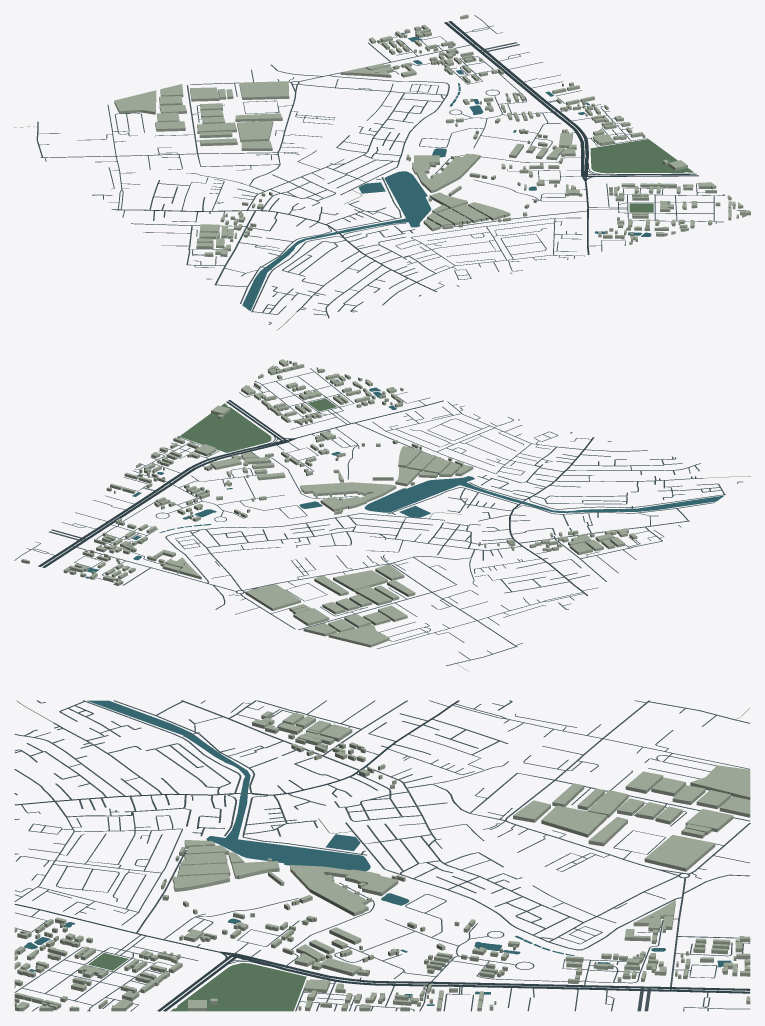
The picture shows the model from 3 angles, top to bottom: view 1: azimuth 30°, elevation 25°; view 2: azimuth 150°, elevation 25°; view 3: azimuth 270°, elevation 25°; orthographic projection. The views are drawn at different scales.
Parts seen in each view (by area): view 1: building, street, water, green, major; view 2: building, street, water, green, major; view 3: building, street, water, green, major.
Part boxes in pixels (bbox=[...]): building: bbox=[114, 14, 750, 256]; street: bbox=[36, 15, 745, 324]; water: bbox=[242, 32, 687, 310]; green: bbox=[590, 139, 693, 212]; major: bbox=[111, 21, 698, 291]; building: bbox=[21, 359, 637, 647]; street: bbox=[14, 366, 742, 665]; water: bbox=[85, 379, 724, 578]; green: bbox=[180, 398, 336, 452]; major: bbox=[38, 400, 594, 595]; building: bbox=[14, 711, 750, 1011]; street: bbox=[14, 700, 750, 1011]; water: bbox=[24, 700, 744, 1005]; green: bbox=[88, 953, 306, 1011]; major: bbox=[14, 700, 750, 1011].
Bounding box in the file's own units: 2005 × 10.7 × 2004.
